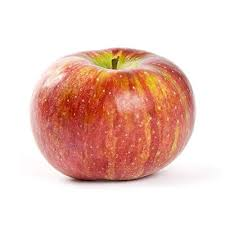apple: (30, 48, 195, 191)
